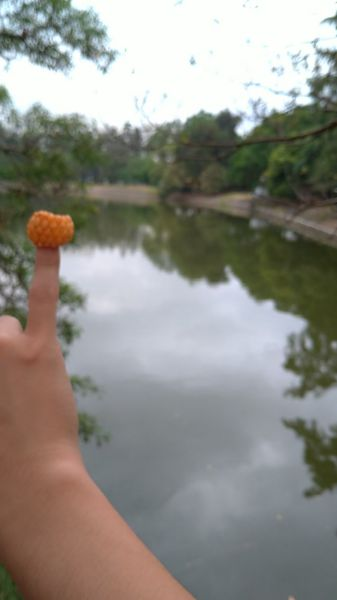eggs: (27, 211, 75, 247)
